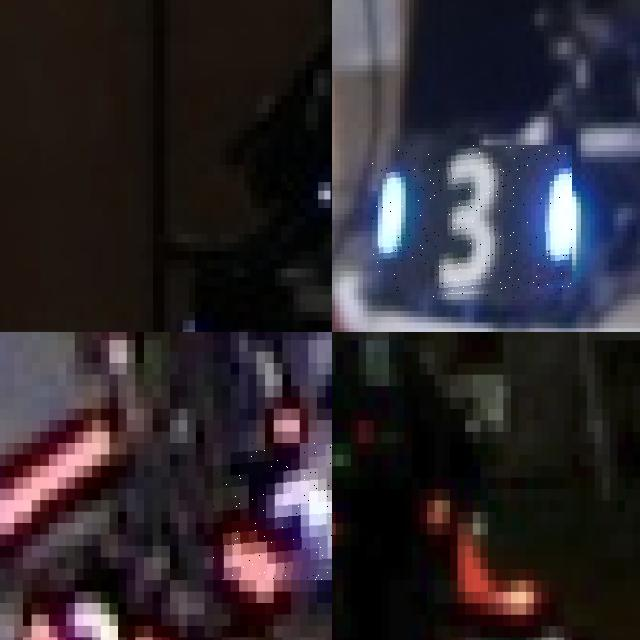B3: (372, 145, 572, 300)
R3: (213, 443, 332, 580), (14, 580, 178, 640)
